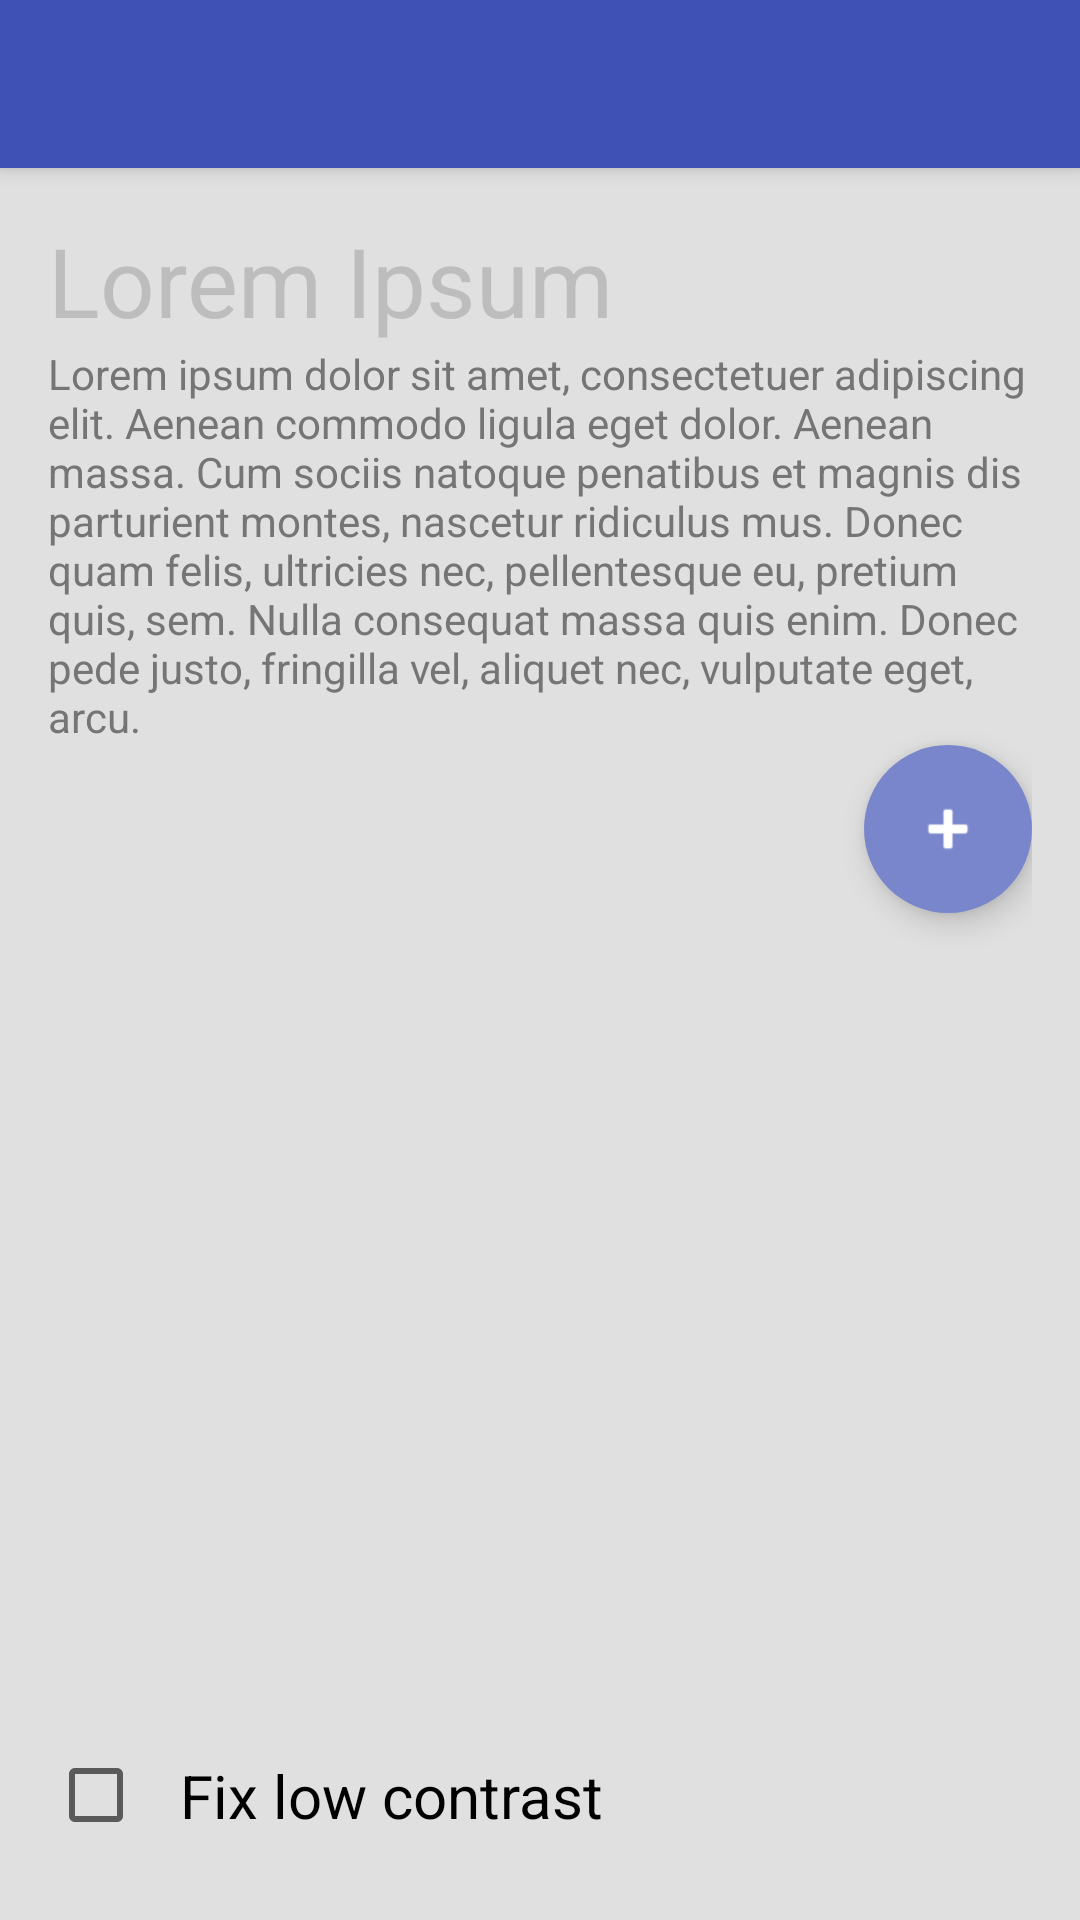

Where to tap for icons on this 1080px x 1920px app screen, as (x=x, y=y):
Add item: (x=948, y=829)
